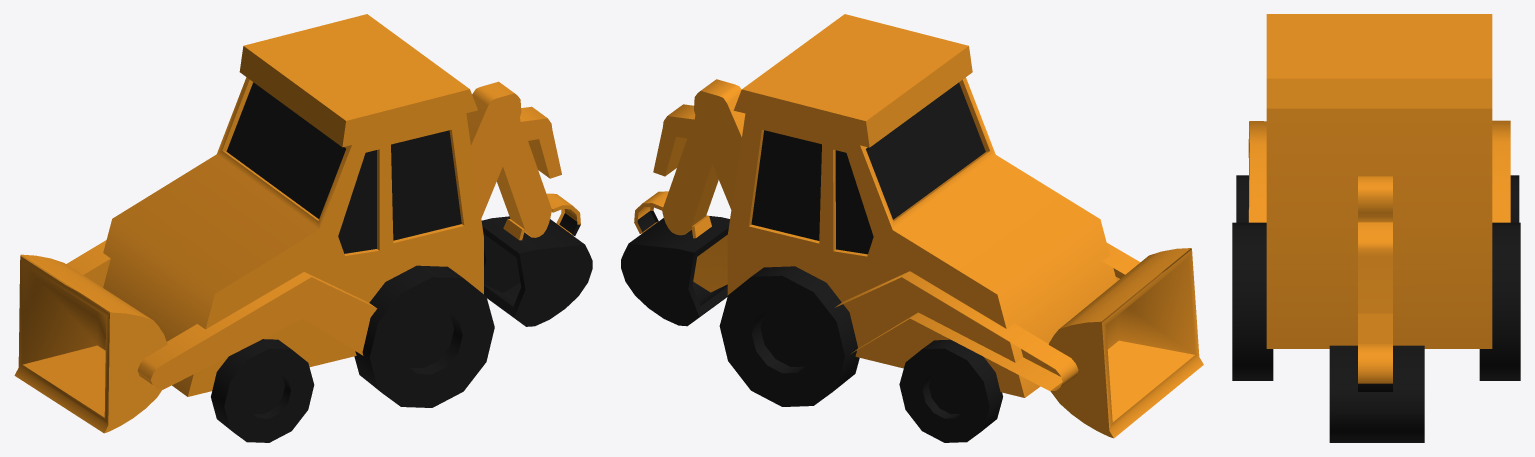
File: kepce.fbx
3 views of the same model, side by side, from view 1: azimuth 30°, elevation 25°; view 2: azimuth 150°, elevation 25°; view 3: azimuth 270°, elevation 25° (orthographic). The views are drawn at different scales.
Parts seen in each view (by area): view 1: kepce; view 2: kepce; view 3: kepce.
Part boxes in pixels (box(x1,y1,x2,y2)): kepce: box(14, 14, 592, 442); kepce: box(621, 14, 1203, 442); kepce: box(1232, 14, 1520, 442).
Size of the model in its own units: 33.22 by 18.16 by 14.67.
